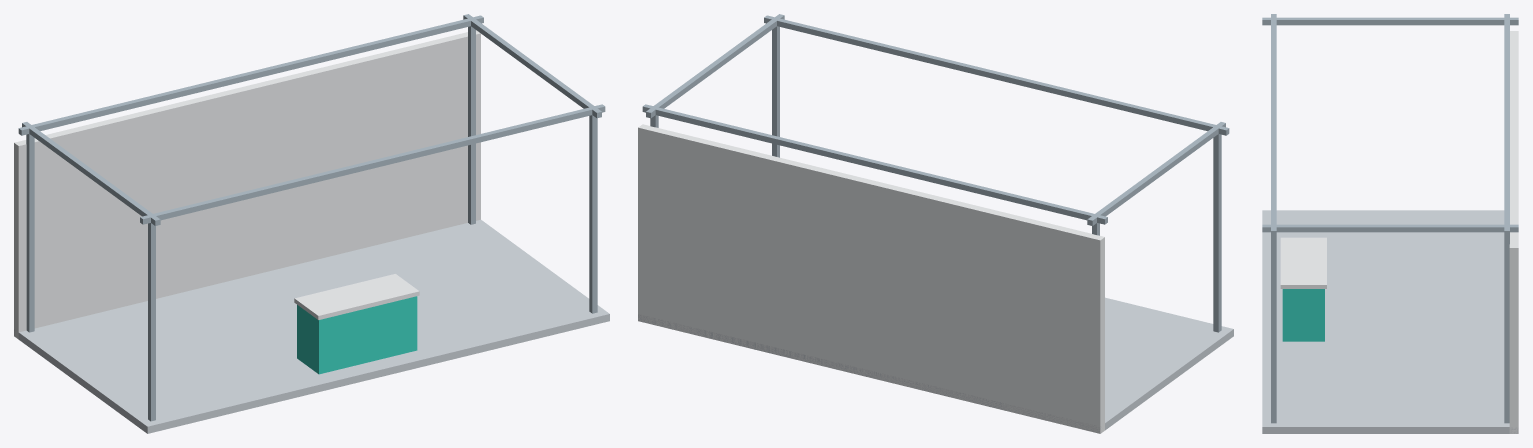
3 views of the same model, side by side, from view 1: azimuth 30°, elevation 25°; view 2: azimuth 150°, elevation 25°; view 3: azimuth 270°, elevation 25° (orthographic). The views are drawn at different scales.
Visible parts, largest first — view 1: Exhibition Booth Concept; view 2: Exhibition Booth Concept; view 3: Exhibition Booth Concept.
Boxes of the visible parts, x1,y1,x2,y2 form: Exhibition Booth Concept: [14, 14, 609, 433]; Exhibition Booth Concept: [638, 14, 1233, 433]; Exhibition Booth Concept: [1262, 14, 1518, 433].
Size of the model in its own units: 8 by 3.49 by 4.
